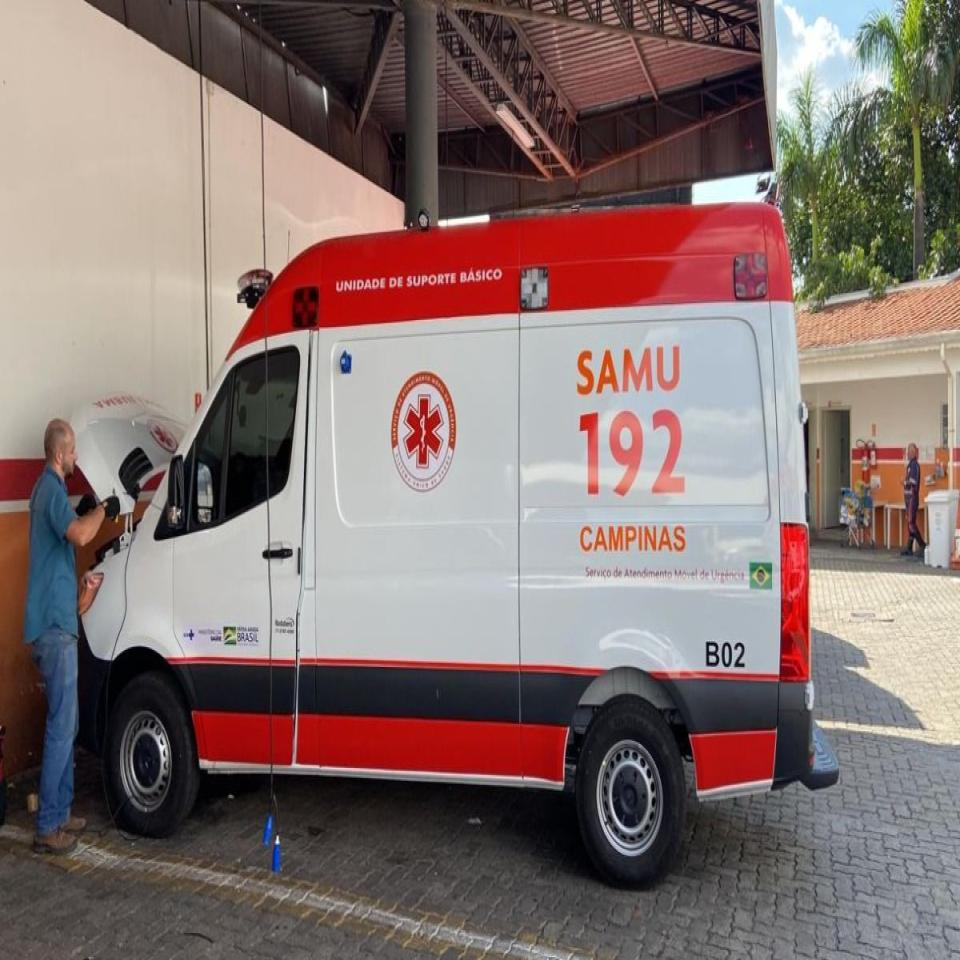bombeiro: (123, 207, 843, 892)
